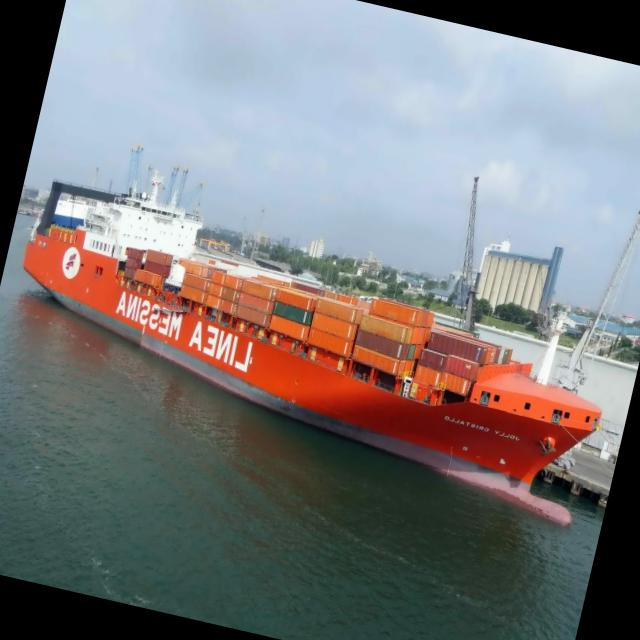Cargo: (23, 172, 601, 524)
